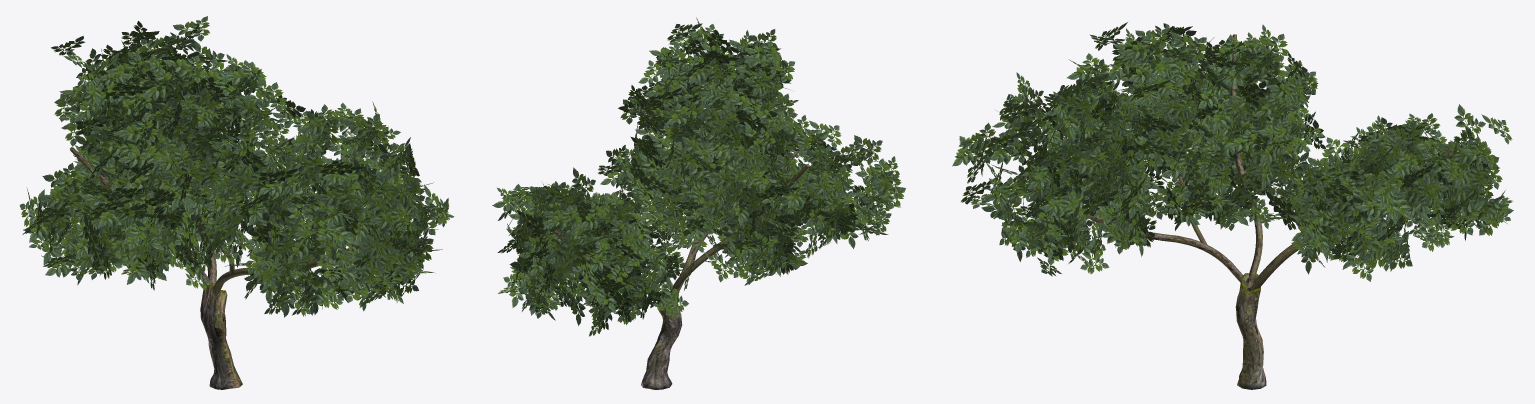
File: STA20_tree01.FBX
3 renders of one model, left to right at view 1: azimuth 30°, elevation 25°; view 2: azimuth 150°, elevation 25°; view 3: azimuth 270°, elevation 25°, orthographic. The views are drawn at different scales.
Visible parts, largest first — view 1: STA20_tree01; view 2: STA20_tree01; view 3: STA20_tree01.
Boxes of the visible parts, x1,y1,x2,y2 form: STA20_tree01: [19, 16, 454, 389]; STA20_tree01: [492, 17, 905, 389]; STA20_tree01: [952, 22, 1513, 389].
Size of the model in its own units: 12.01 by 10.7 by 16.22.
